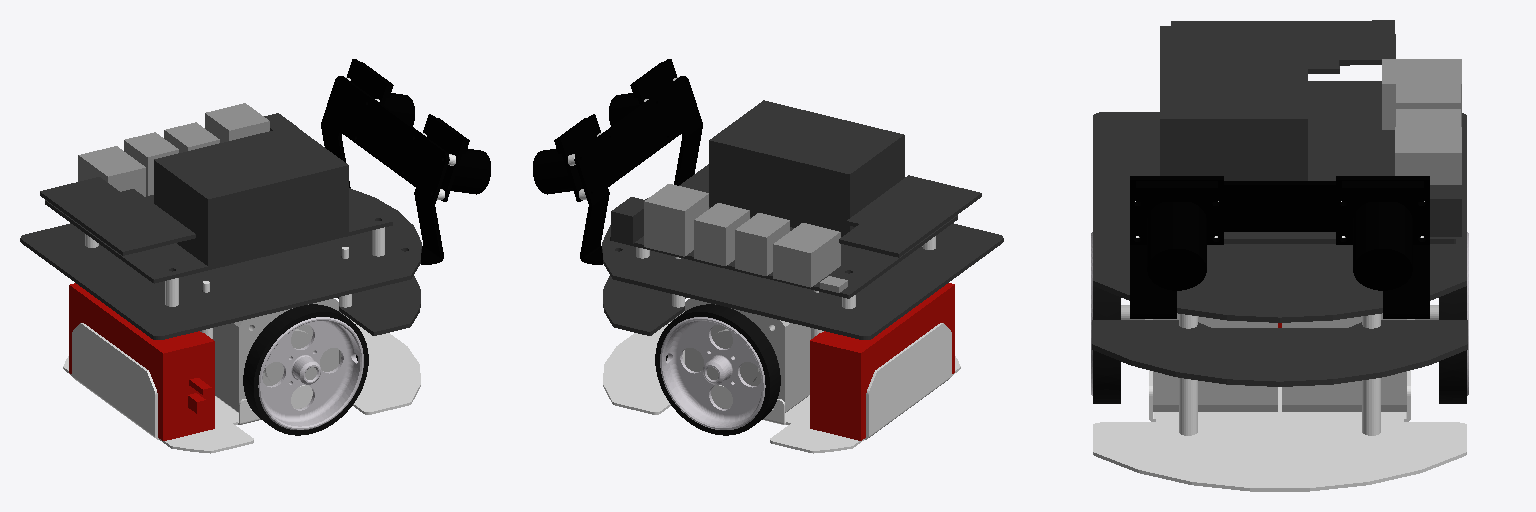
URDF robot description (jnmouse):
<?xml version="1.0"?>
<robot name="jnmouse">
  <link name="base_footprint" />

  <joint name="base_joint" type="fixed">
    <origin xyz="0 0 0.00185" />
    <parent link="base_footprint" />
    <child link="base_link" />
  </joint>

  <link name="base_link">
     <visual>
      <geometry>
        <mesh filename="package://jnmouse_description/meshes/dae/jnmouse_body.dae" />
      </geometry>
    </visual>
    <collision>
      <origin rpy="0 0 0" xyz="0.005 0 0.040" />
      <geometry>
        <box size="0.117 0.080 0.080" />
      </geometry>
    </collision>
  </link>

  <joint name="left_wheel_joint" type="continuous">
    <origin xyz="0 0.0425 0.02215" rpy="-1.57 0 0" />
    <axis xyz="0 0 1" /> 
    <parent link="base_link" />
    <child link="left_wheel" />
  </joint>
  
  <link name="left_wheel">
     <visual>
      <geometry>
        <mesh filename="package://jnmouse_description/meshes/dae/jnmouse_wheel.dae" />
      </geometry>
    </visual>
    <collision>
      <origin xyz="0 0 0.003" />
        <geometry>
          <cylinder radius="0.024" length="0.010" />
        </geometry>
    </collision>
  </link>
  
  <joint name="right_wheel_joint" type="continuous">
    <origin xyz="0 -0.0425 0.02215" rpy="1.57 0 0" />
    <axis xyz="0 0 1" /> 
    <parent link="base_link" />
    <child link="right_wheel" />
  </joint>
  
  <link name="right_wheel">
     <visual>
      <geometry>
        <mesh filename="package://jnmouse_description/meshes/dae/jnmouse_wheel.dae" />
      </geometry>
    </visual>
    <collision>
      <origin xyz="0 0 0.003" />
        <geometry>
          <cylinder radius="0.024" length="0.010" />
        </geometry>
    </collision>
  </link>

  <joint name="right_camera_joint" type="fixed">
    <origin xyz="0.06446622 -0.0285614 0.07966166" rpy="1.91986 0 1.57" />
    <parent link="base_link" />
    <child link="right_camera" />
  </joint>

  <link name="right_camera">
    <collision>
        <origin xyz="0 0 0.012" />
        <geometry>
          <cylinder radius="0.008" length="0.015" />
        </geometry>
    </collision>
  </link>

  <joint name="left_camera_joint" type="fixed">
    <origin xyz="0.06446622 0.0264386 0.07966166" rpy="1.91986 0 1.57" />
    <parent link="base_link" />
    <child link="left_camera" />
  </joint>

  <link name="left_camera">
    <collision>
        <origin xyz="0 0 0.012" />
        <geometry>
          <cylinder radius="0.008" length="0.015" />
        </geometry>
    </collision>
  </link>

</robot>

--- Facts derived from the render (not from the file) ---
Views: 3 orthographic renders of the robot side by side, from view 1: azimuth 30°, elevation 25°; view 2: azimuth 150°, elevation 25°; view 3: azimuth 270°, elevation 25°.
Robot: jnmouse — 6 links, 5 joints (2 continuous, 3 fixed); root link base_footprint; default pose: all joints at 0.
Links seen in each view (by area): view 1: base_link, right_wheel; view 2: base_link, left_wheel; view 3: base_link, left_wheel, right_wheel.
Boxes of the visible links, <box> form: base_link: <box>20,59,490,453</box>; right_wheel: <box>243,304,368,435</box>; base_link: <box>533,59,1003,453</box>; left_wheel: <box>655,304,780,435</box>; base_link: <box>1092,20,1467,491</box>; left_wheel: <box>1439,232,1468,403</box>; right_wheel: <box>1091,232,1120,403</box>.
Bounding box of the posed robot: 0.1521 × 0.101 × 0.0971 m (x, y, z).
Meshes: 2 distinct files referenced, 3 mesh visuals loaded (2 Collada DAE).
